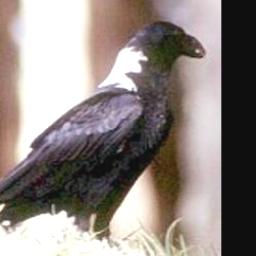Crow: (0, 12, 208, 246)
